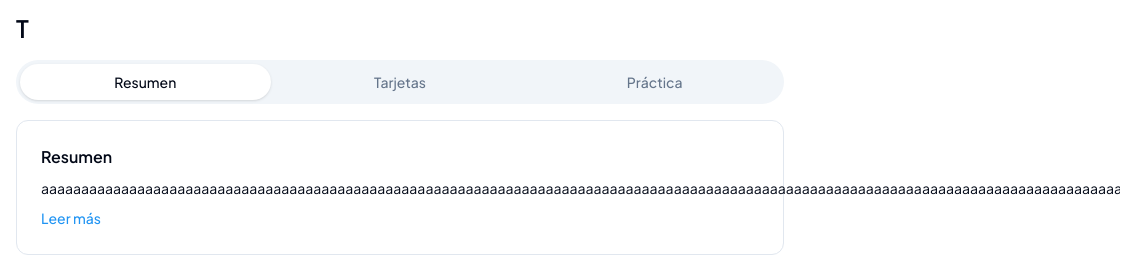
Test case: LessonViewer (mobile) › shows a summary tab and read-more reveal for long text
Click the button "Leer más" at (71, 218), box [41,208,101,228]
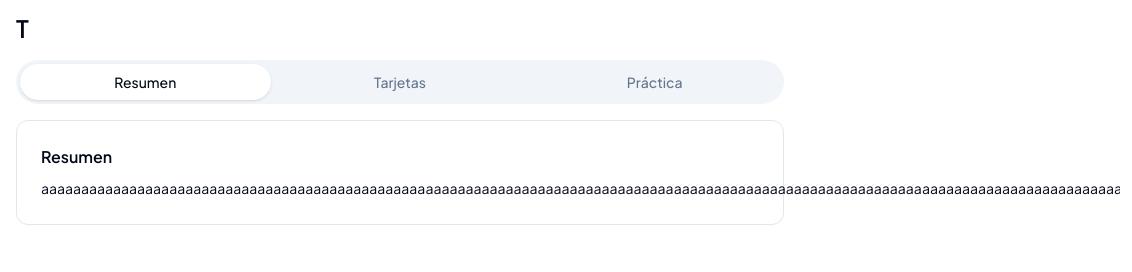
Now the button "Leer más" is gone
